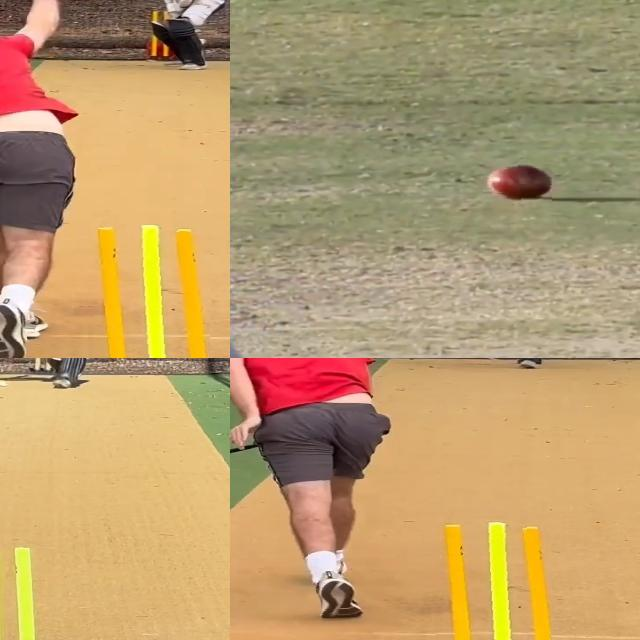Cricket ball: (483, 163, 552, 202), (0, 378, 10, 387)
Stumps: (76, 224, 210, 358), (424, 519, 551, 640), (0, 544, 59, 640)
